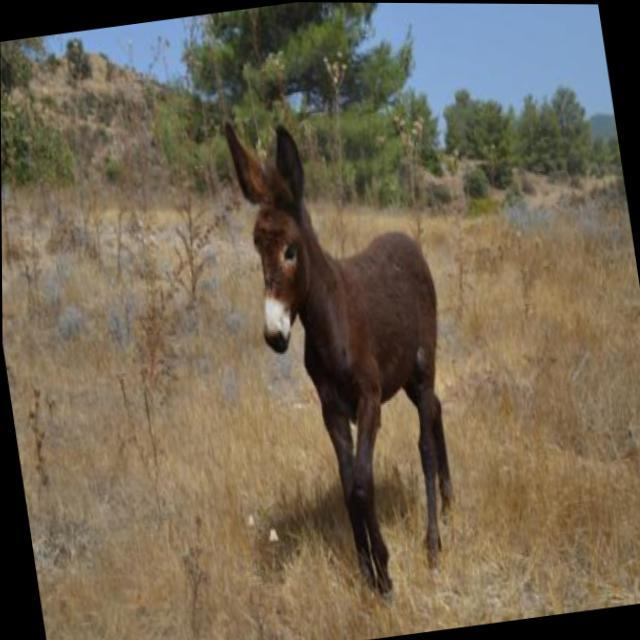Donkey: (223, 97, 478, 607)
